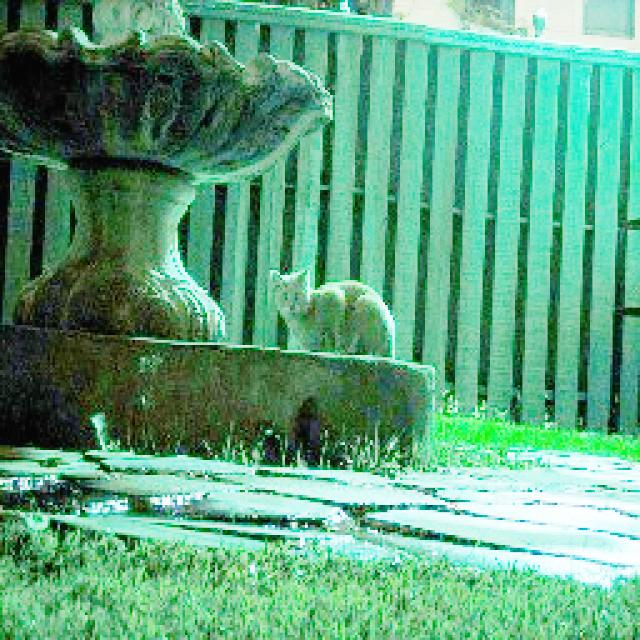cat: (246, 226, 432, 378)
